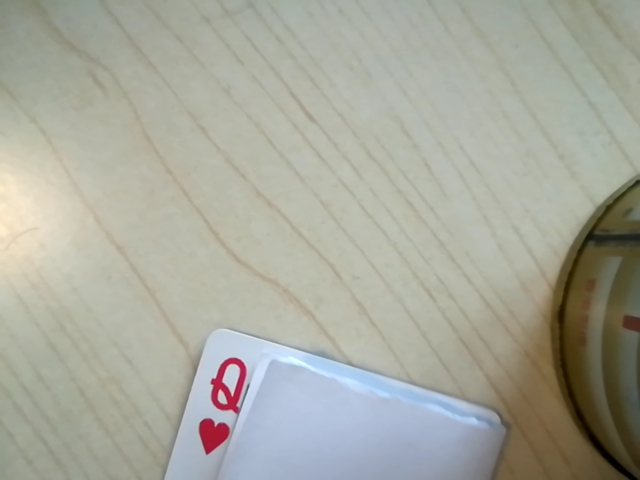hx q: (191, 350, 257, 463)
